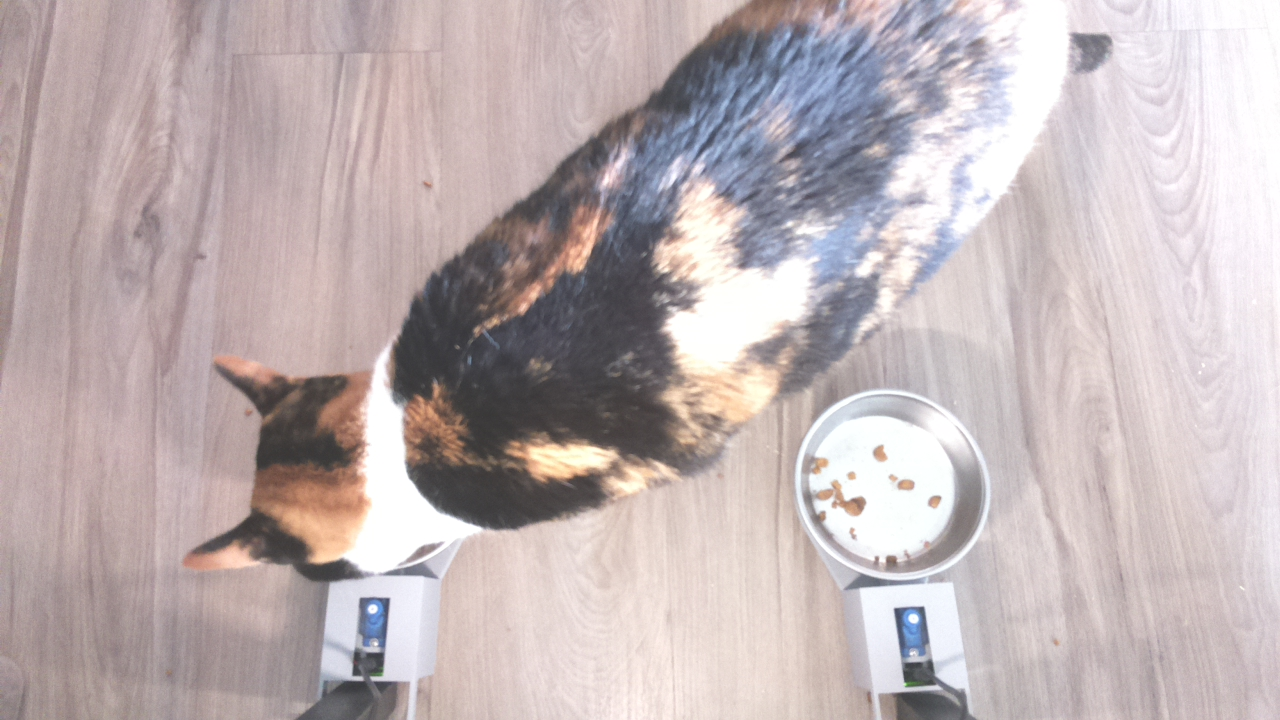bella_eating: (197, 326, 497, 585)
open_bowl: (790, 385, 995, 583)
